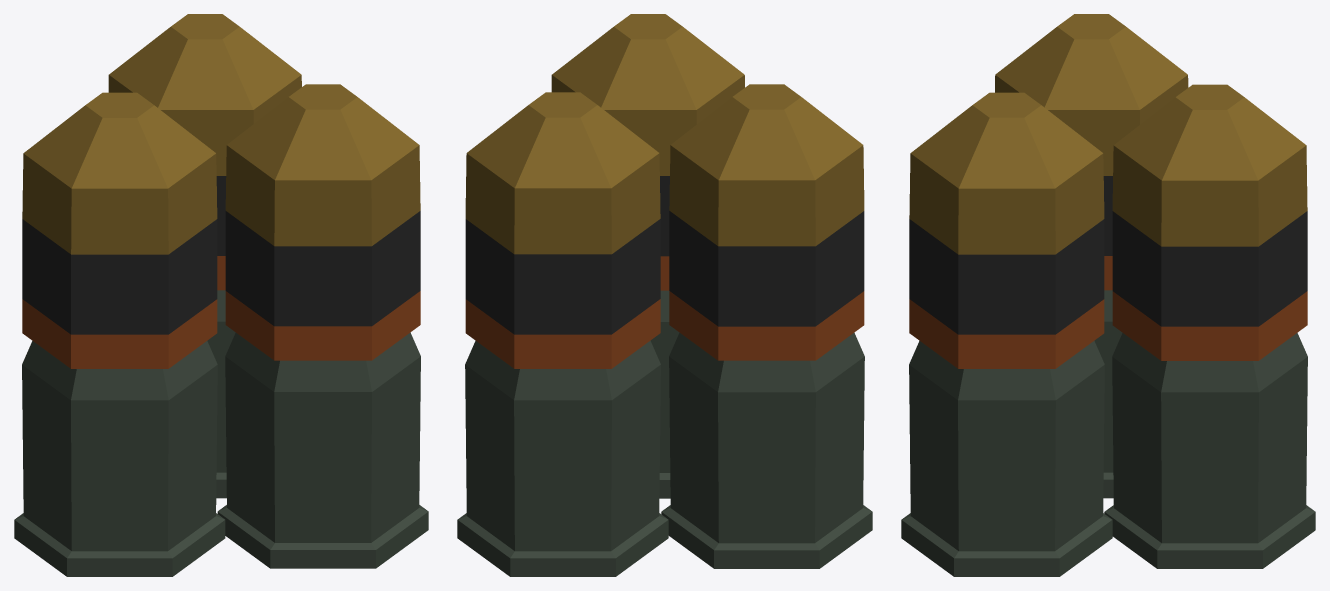
The picture shows the model from 3 angles, left to right: view 1: azimuth 30°, elevation 25°; view 2: azimuth 150°, elevation 25°; view 3: azimuth 270°, elevation 25°; orthographic projection.
Visible parts, largest first — view 1: He40mmGround; view 2: He40mmGround; view 3: He40mmGround.
Part boxes in pixels (x1,y1,x2,y2): He40mmGround: (14, 14, 428, 576); He40mmGround: (457, 14, 872, 576); He40mmGround: (901, 14, 1315, 576).
Bounding box in the file's own units: 0.159 × 0.2061 × 0.1786.
1 material, 1 textured.
